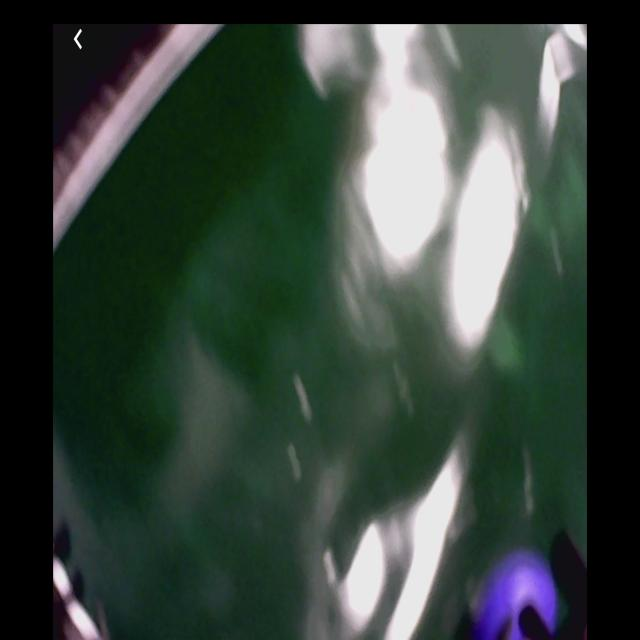ball: (477, 548, 559, 640)
